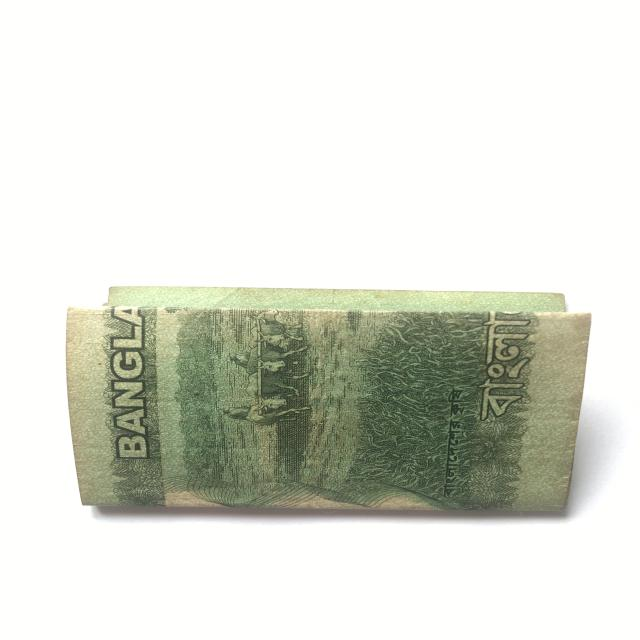Taka: (70, 283, 583, 516)
